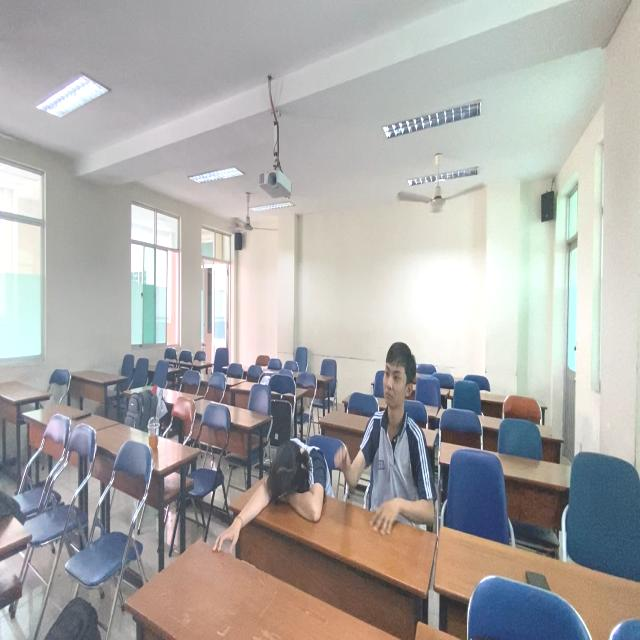sleep: (232, 428, 333, 535)
